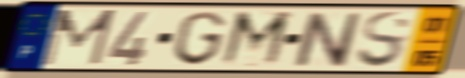4: (104, 9, 151, 67)
G: (170, 10, 229, 68)
M: (38, 7, 120, 68), (216, 9, 295, 69)
N: (292, 10, 363, 69)
S: (354, 9, 414, 71)
